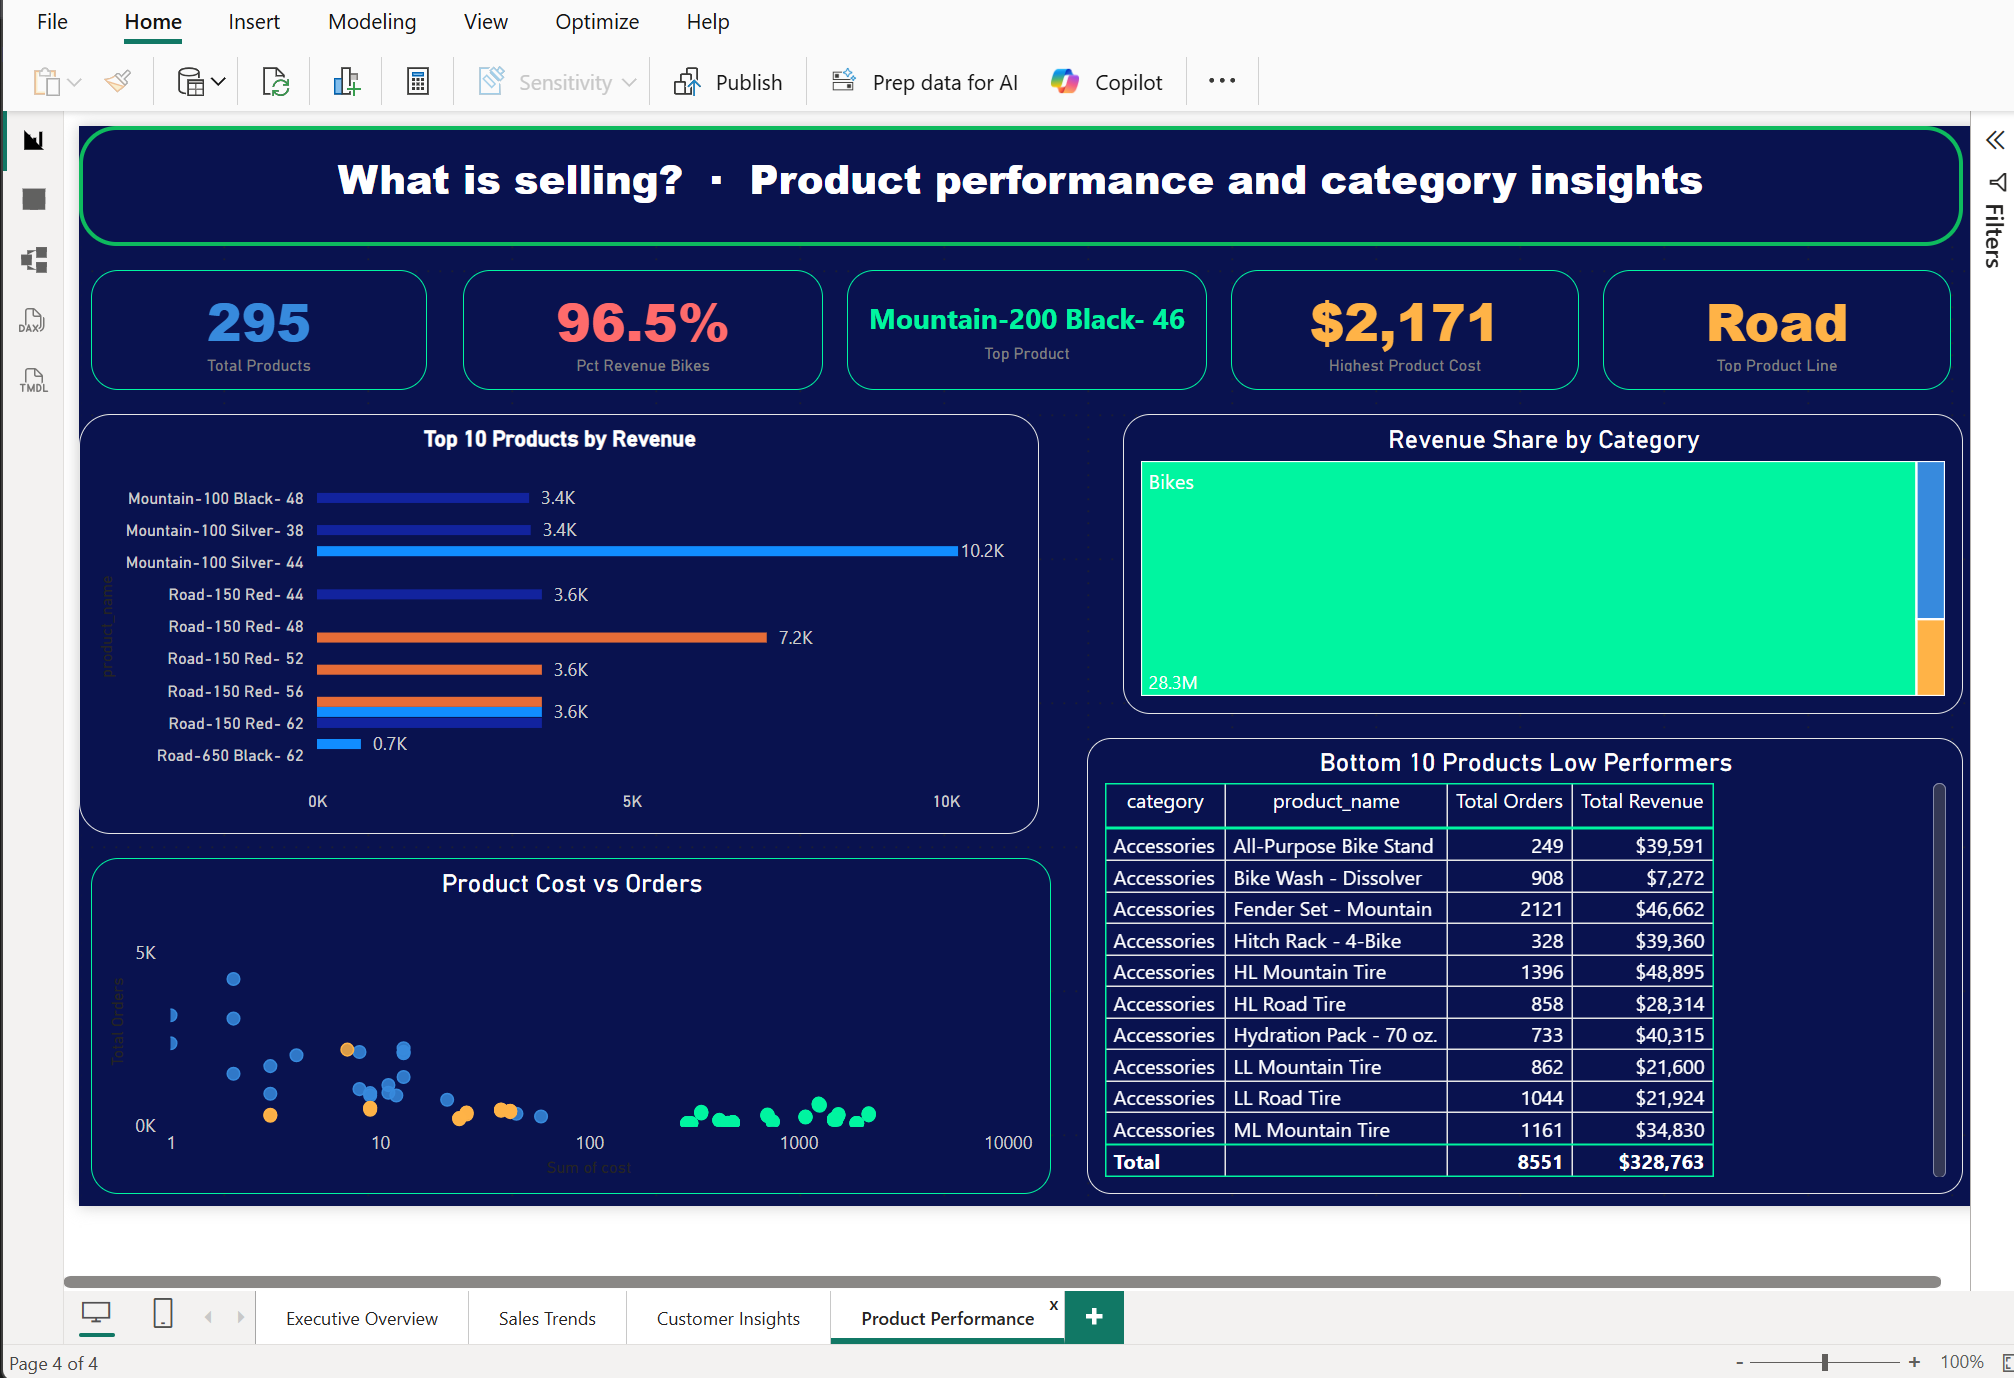

What the dashboard file says about the page in this screenshot:
{"tool":"powerbi","page":{"name":"Product Performance","canvas":[1280,720],"ordinal":3},"visuals":[{"type":"textbox","box":[0,0,1256,80],"z":0},{"type":"card","fields":{"Values":["Measures = {0}.Total Products"]},"box":[8,96,224,80],"z":1000},{"type":"card","fields":{"Values":["Measures = {0}.Pct Revenue Bikes"]},"box":[256,96,240,80],"z":2000},{"type":"card","fields":{"Values":["Measures = {0}.Top Product"]},"box":[512,96,240,80],"z":3000},{"type":"card","fields":{"Values":["Measures = {0}.Highest Product Cost"]},"box":[768,96,232,80],"z":4000},{"type":"clusteredBarChart","title":"Top 10 Products by Revenue","fields":{"Y":["Measures = {0}.Total Revenue"],"Series":["datawarehouse gold_fact_sales.order_date"],"Category":["datawarehouse gold_dim_products.product_name"]},"box":[0,192,640,280],"z":5000},{"type":"treemap","title":"Revenue Share by Category","fields":{"Group":["datawarehouse gold_dim_products.category"],"Values":["Measures = {0}.Total Revenue"]},"box":[696,192,560,200],"z":6000},{"type":"scatterChart","title":"Product Cost vs Orders","fields":{"X":["Sum(datawarehouse gold_dim_products.cost)"],"Y":["Measures = {0}.Total Orders"],"Series":["datawarehouse gold_dim_products.category"],"Category":["datawarehouse gold_dim_products.product_name"]},"box":[8,488,640,224],"z":7000},{"type":"tableEx","title":"Bottom 10 Products  Low Performers","fields":{"Values":["datawarehouse gold_dim_products.category","datawarehouse gold_dim_products.product_name","Measures = {0}.Total Orders","Measures = {0}.Total Revenue"]},"box":[672,408,584,304],"z":8000},{"type":"card","fields":{"Values":["Measures = {0}.Top Product Line"]},"box":[1016,96,232,80],"z":9000}]}

Visuals, with their boxes on the page's 1280x720 design canvas (x1, y1, x2, y2). These are canvas units, not pixel positions in the 2014x1378 screenshot, which may show the page scaled, cropped or inside an application window:
textbox: region(0, 0, 1256, 80)
card - Measures = {0}.Total Products: region(8, 96, 232, 176)
card - Measures = {0}.Pct Revenue Bikes: region(256, 96, 496, 176)
card - Measures = {0}.Top Product: region(512, 96, 752, 176)
card - Measures = {0}.Highest Product Cost: region(768, 96, 1000, 176)
"Top 10 Products by Revenue" clusteredBarChart: region(0, 192, 640, 472)
"Revenue Share by Category" treemap: region(696, 192, 1256, 392)
"Product Cost vs Orders" scatterChart: region(8, 488, 648, 712)
"Bottom 10 Products  Low Performers" tableEx: region(672, 408, 1256, 712)
card - Measures = {0}.Top Product Line: region(1016, 96, 1248, 176)
